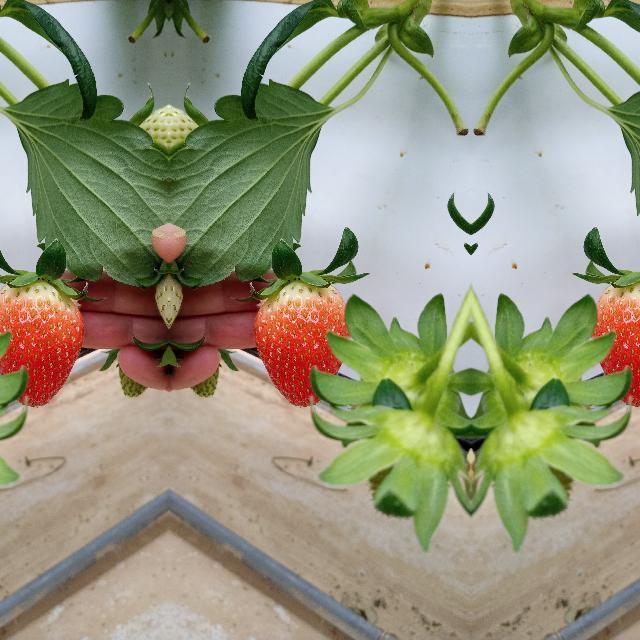Health_100: (252, 279, 350, 407), (0, 279, 83, 407), (591, 279, 640, 407)
